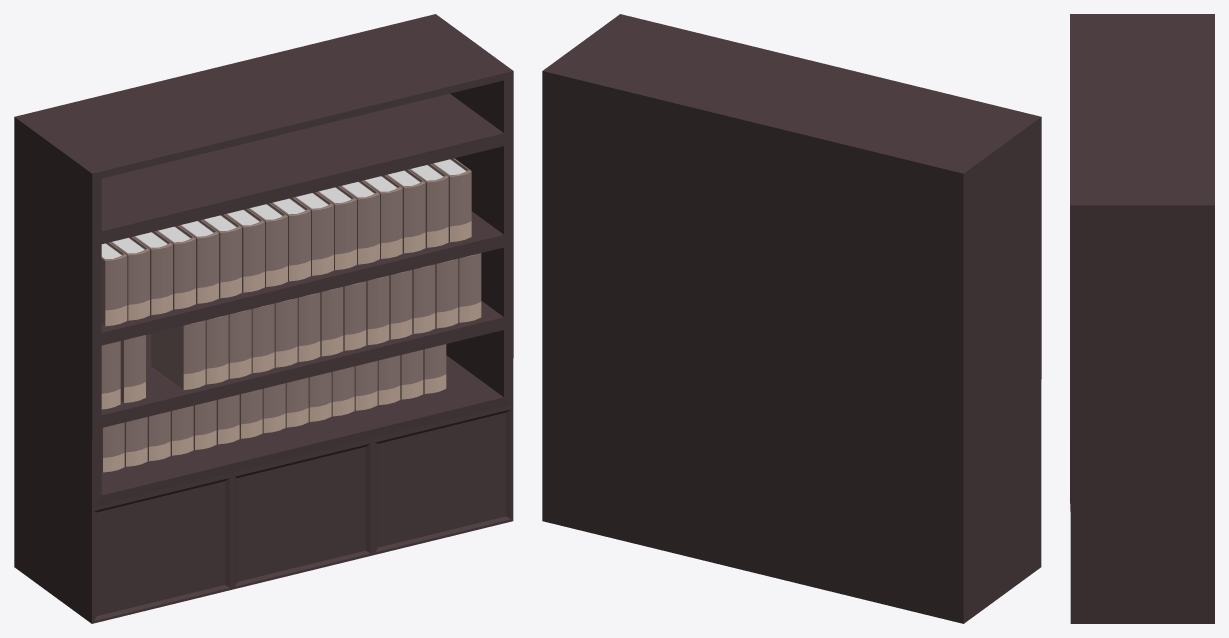
File: LargeBooKcase.fbx
3 renders of one model, left to right at view 1: azimuth 30°, elevation 25°; view 2: azimuth 150°, elevation 25°; view 3: azimuth 270°, elevation 25°, orthographic. The views are drawn at different scales.
Parts seen in each view (by area): view 1: BookCase.001; view 2: BookCase.001; view 3: BookCase.001.
Part boxes in pixels (bbox=[...]): BookCase.001: bbox=[14, 14, 513, 623]; BookCase.001: bbox=[542, 14, 1041, 623]; BookCase.001: bbox=[1070, 14, 1214, 623].
Bounding box in the file's own units: 98.36 × 100 × 31.47.
